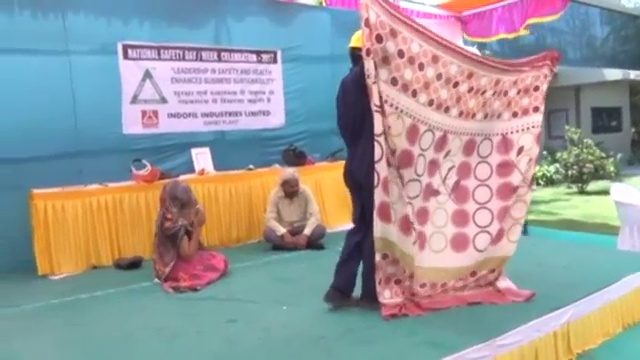helmet: (345, 27, 366, 50)
helmet_off: (161, 180, 195, 215), (279, 169, 300, 201)
helmet_on: (344, 26, 368, 72)
person: (326, 28, 379, 308), (149, 180, 227, 290), (262, 169, 326, 248)
